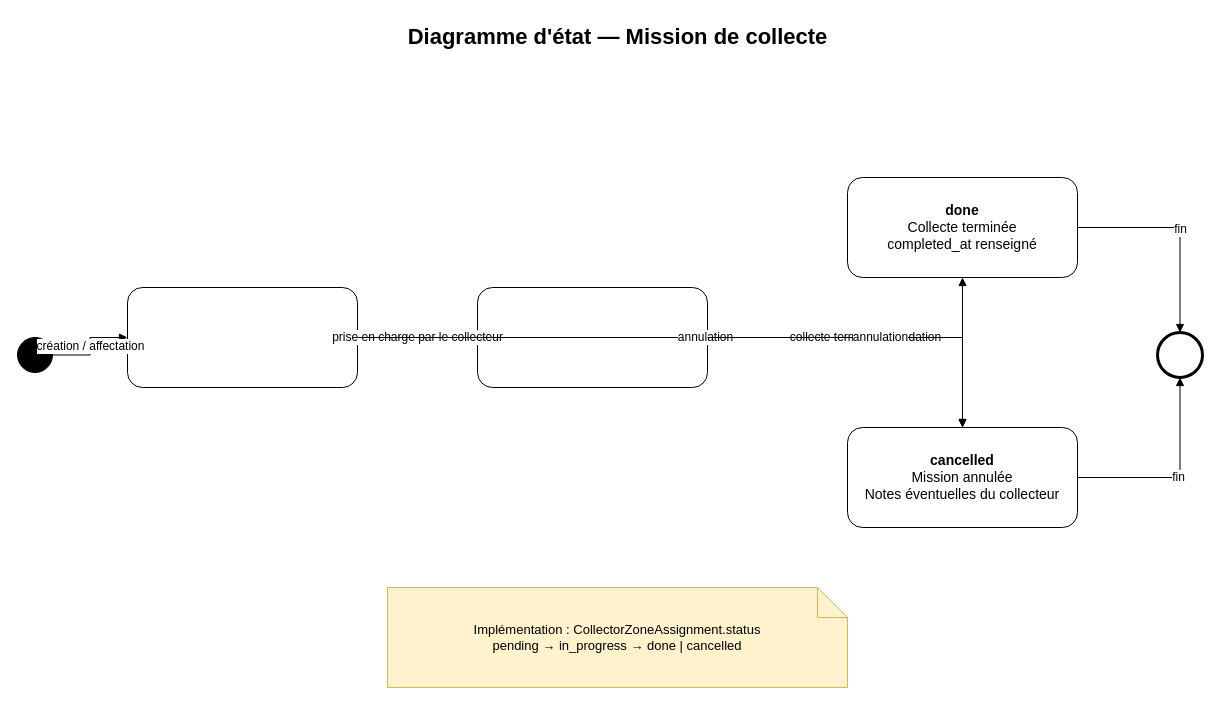
Some shapes in this 1221 by 705 pixel diagram are drawn without their labels. The centre of each missing label's shape, as x and y in pixels:
"in_progress Collecte en cours Mission prise en charge" belongs at point (592, 337).
"pending Mission créée et affectée En attente de prise en charge" belongs at point (242, 337).
